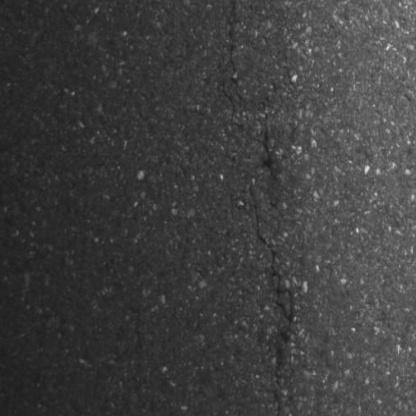Cracks: (246, 183, 298, 416), (218, 0, 280, 184)
